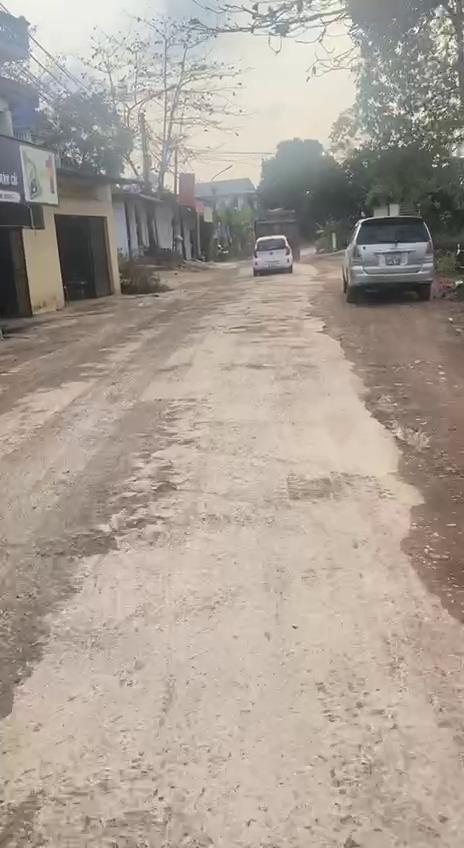pothole: (68, 476, 174, 555)
